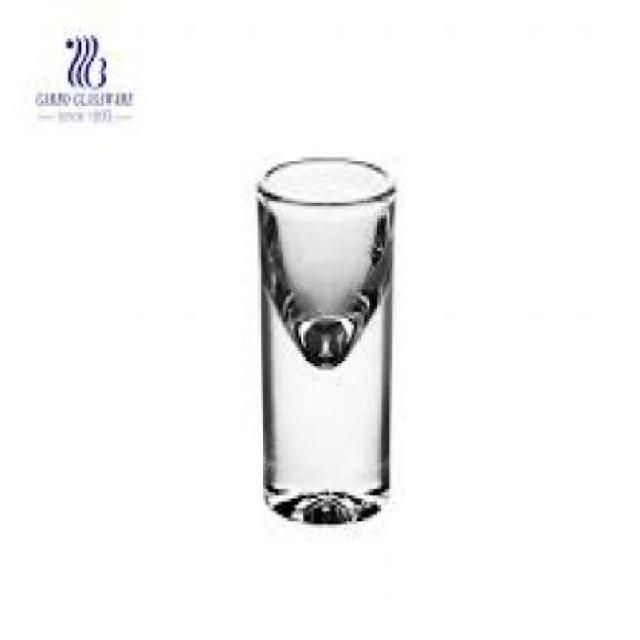kaca: (255, 154, 388, 521)
